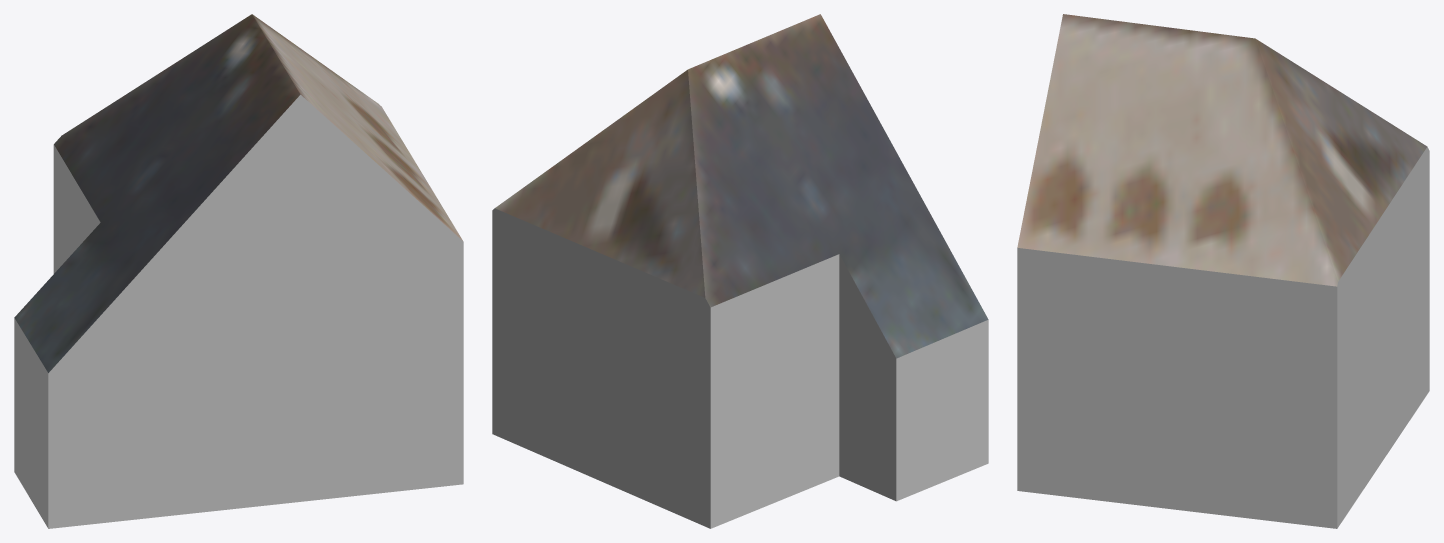
Rendered from DEBW_0010007TxeY.gltf.
The picture shows the model from 3 angles, left to right: view 1: azimuth 30°, elevation 25°; view 2: azimuth 150°, elevation 25°; view 3: azimuth 270°, elevation 25°; orthographic projection. The views are drawn at different scales.
Parts seen in each view (by area): view 1: Z_UP; view 2: Z_UP; view 3: Z_UP.
Part boxes in pixels (bbox=[...]): Z_UP: bbox=[14, 14, 463, 528]; Z_UP: bbox=[492, 14, 988, 528]; Z_UP: bbox=[1017, 14, 1429, 528].
Bounding box in the file's own units: 14.87 × 13.31 × 12.18.
Materials: 2 (1 with a texture image).
